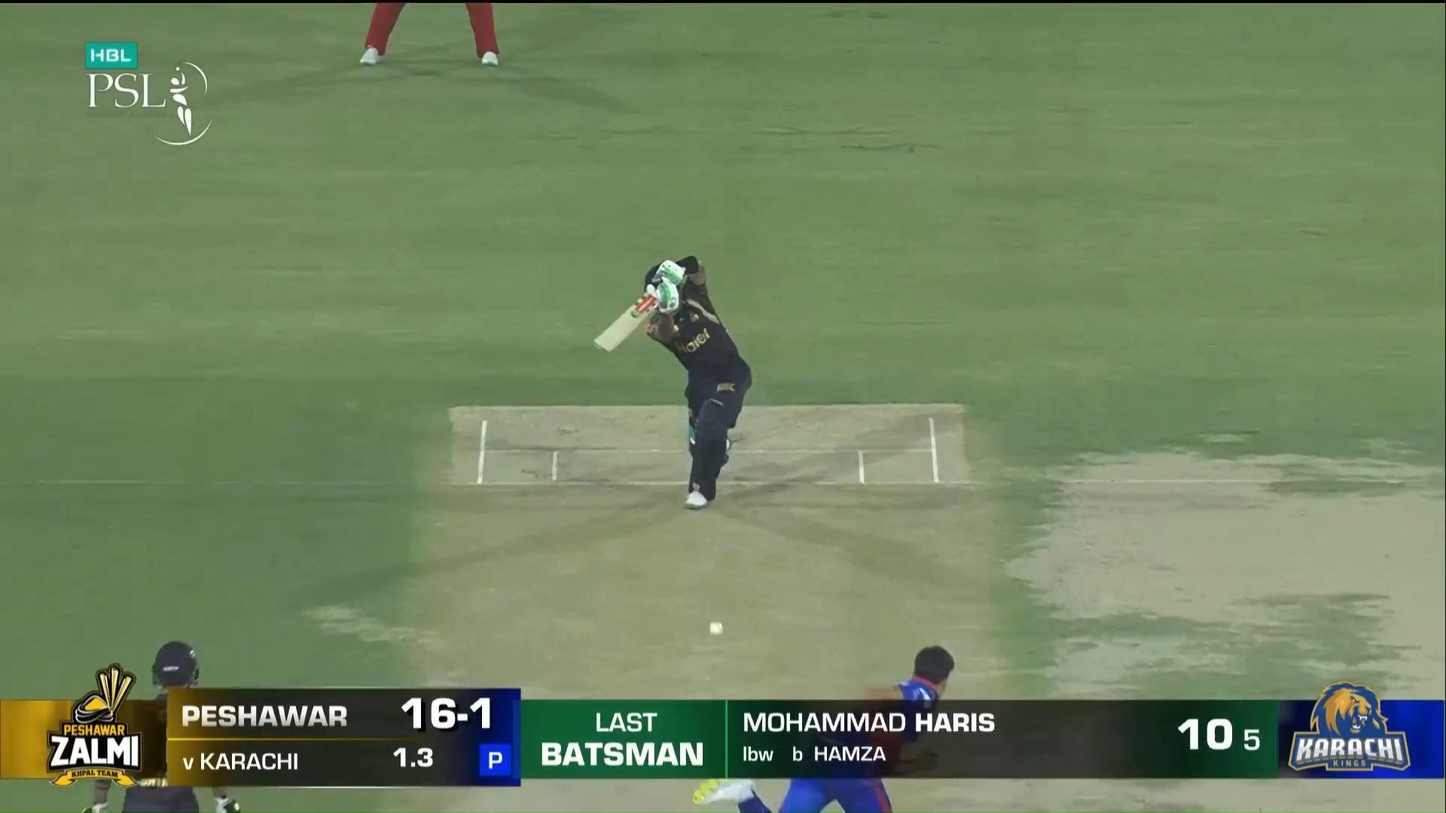batsman: (593, 254, 753, 510)
